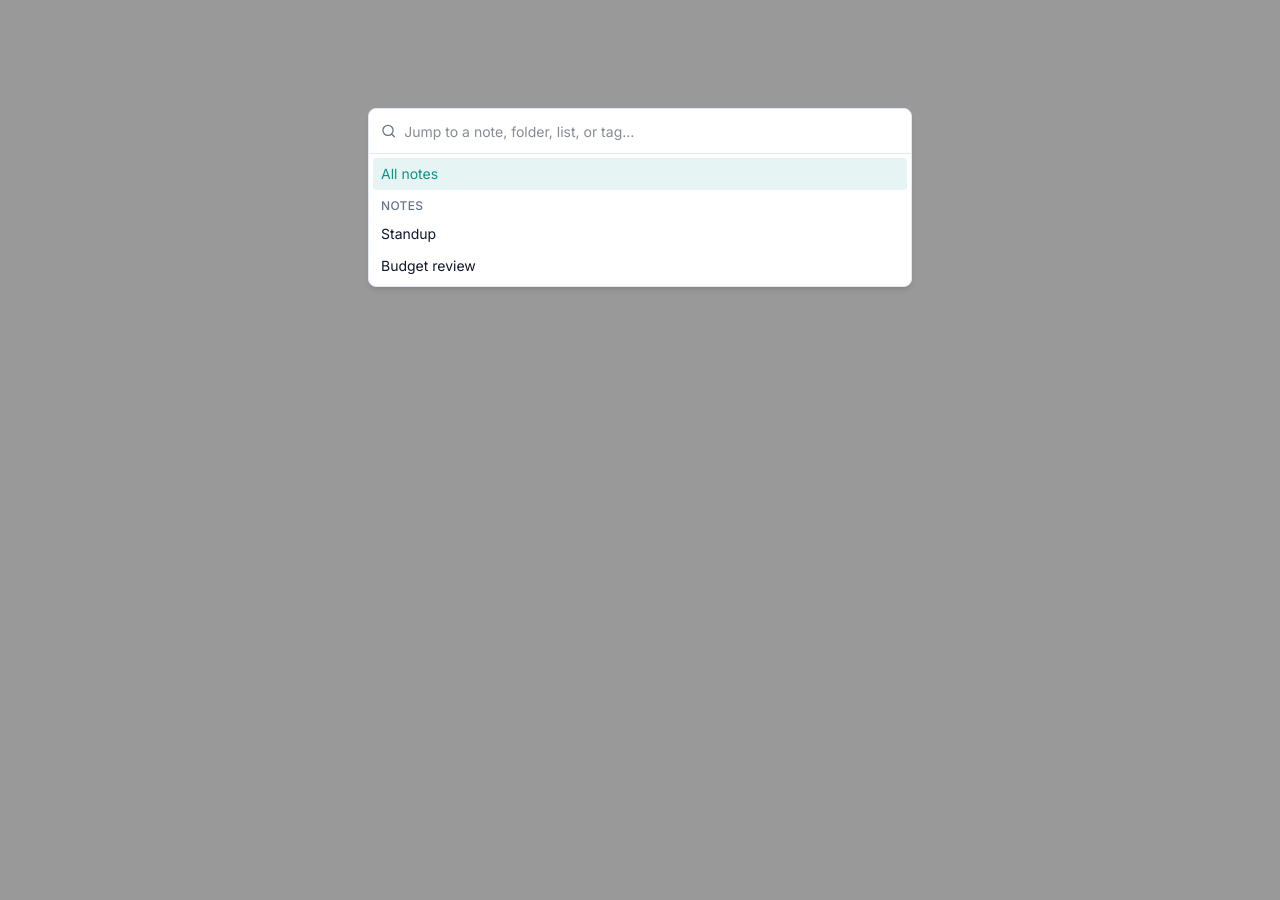
Scenario: CommandPalette › folder affordance › does NOT show "→ folder" badge next to note results
Type "standup" into the field named "Search" at (652, 131), box x1=404 y1=109 x2=899 y2=153
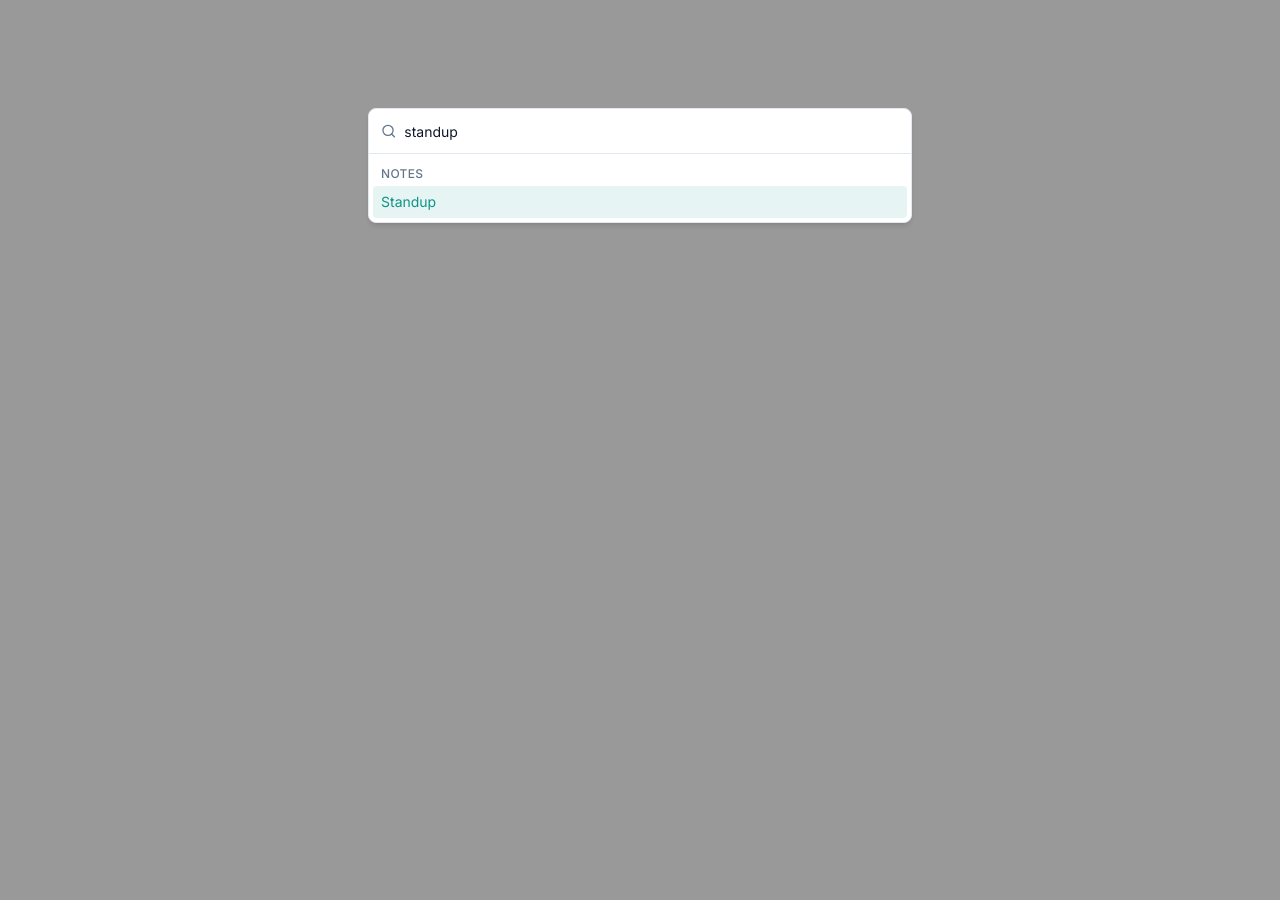
Expected: the text "Standup" is shown, x1=381 y1=193 x2=436 y2=210
